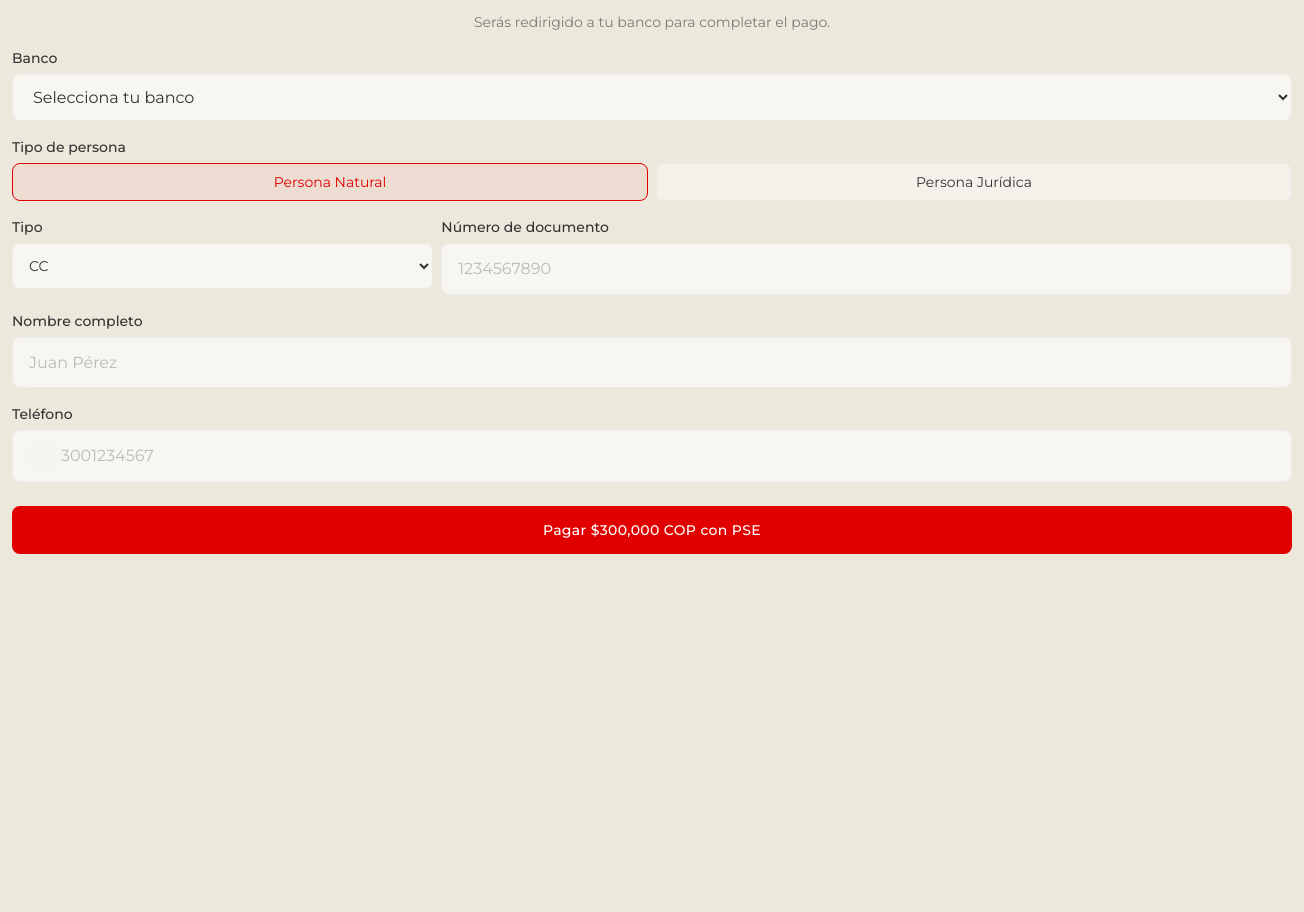
Test: PSEPaymentForm › shows validation errors when form is submitted empty
This screenshot has width=1304, height=912.
Expected: the dropdown labelled "Banco" is shown, left=12, top=74, right=1292, bottom=121
Click the button "Pagar $300,000 COP con PSE".
click(652, 530)  # box left=12, top=506, right=1292, bottom=554
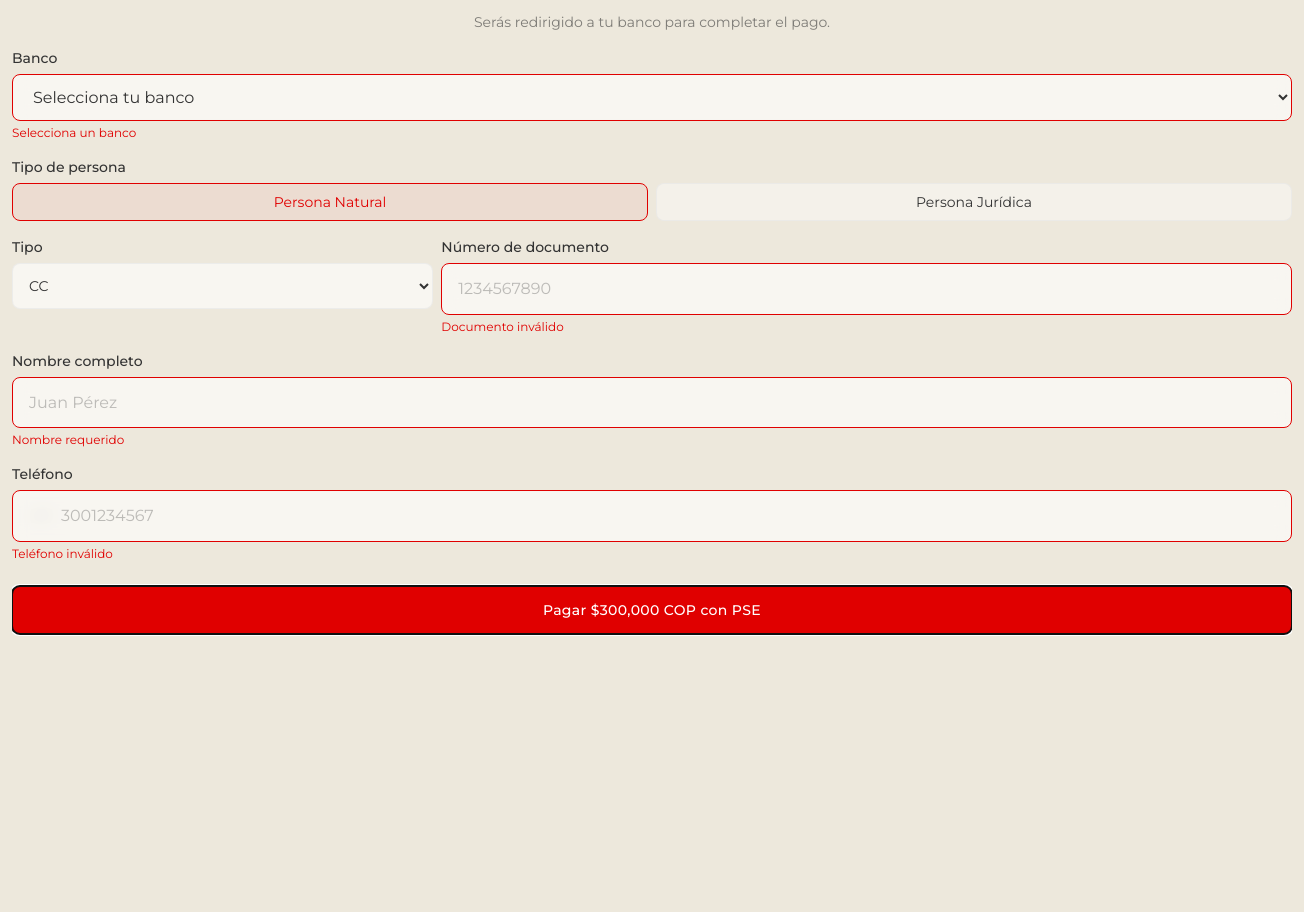
Now the text "Selecciona un banco" is shown, box left=12, top=125, right=136, bottom=140
Now the text "Documento inválido" is shown, box left=441, top=319, right=564, bottom=334
Now the text "Nombre requerido" is shown, box left=12, top=432, right=124, bottom=447
